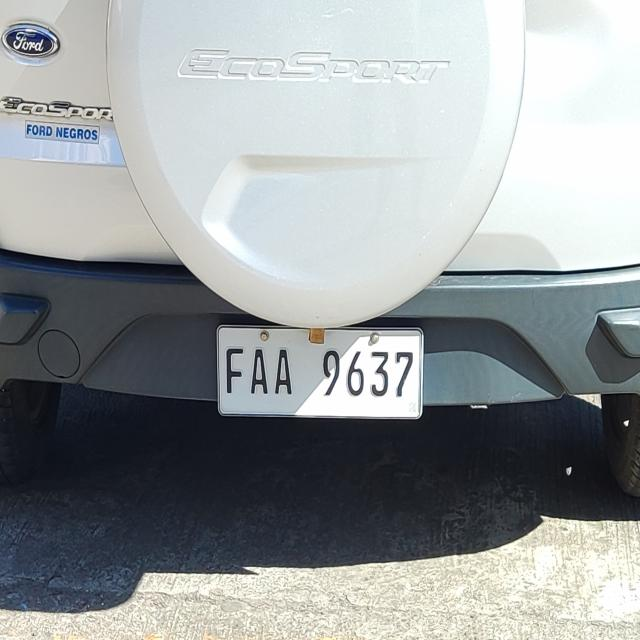plate: (212, 320, 427, 424)
